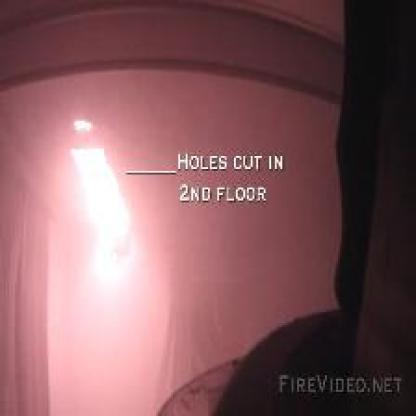fire: (57, 116, 142, 277)
